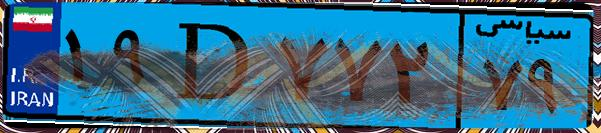1: (57, 26, 110, 100)
2: (385, 28, 445, 110)
7: (270, 28, 330, 110), (330, 28, 385, 110), (475, 38, 525, 113)
9: (525, 38, 570, 115), (110, 28, 158, 98)
D: (158, 12, 270, 120)
